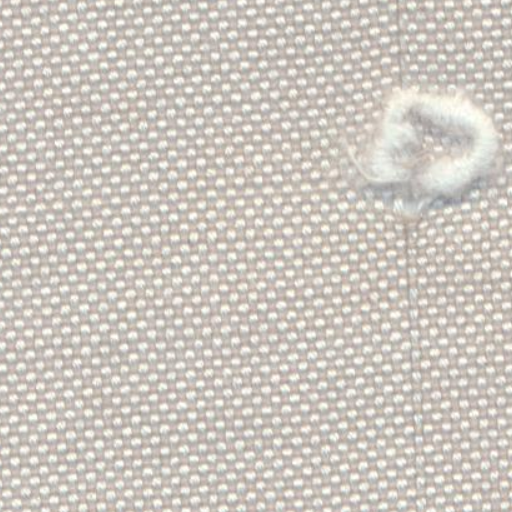DuanSha: (345, 64, 504, 242)
